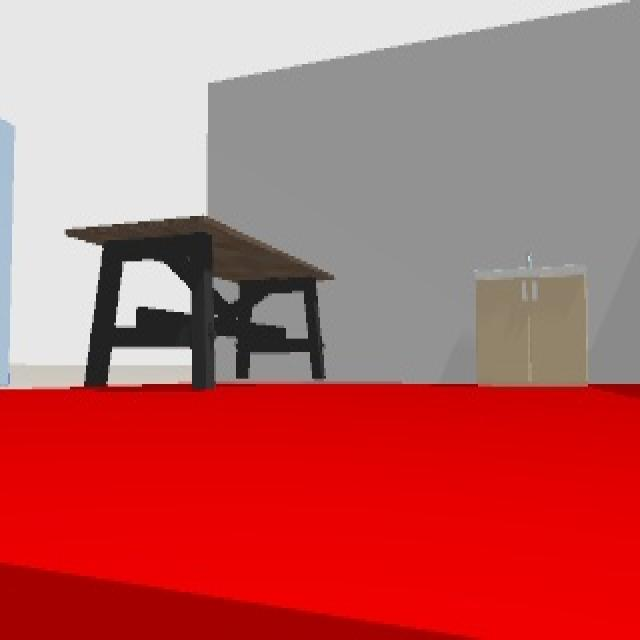dining: (61, 219, 336, 391)
